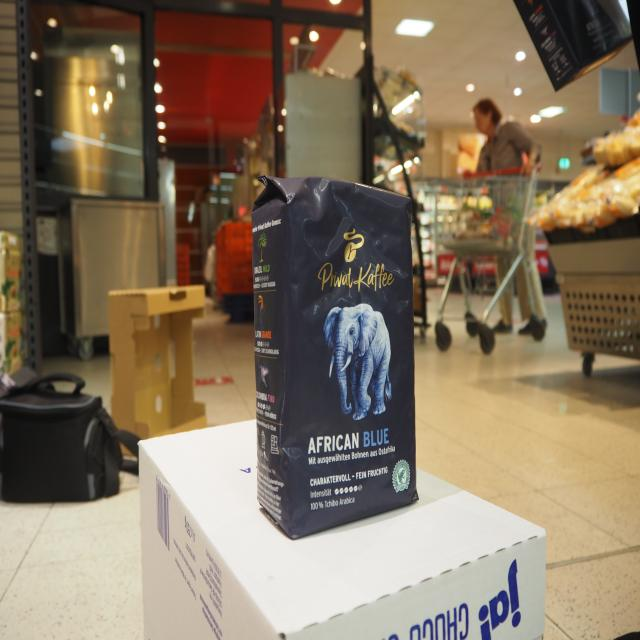AB Bohne: (282, 195, 423, 544)
